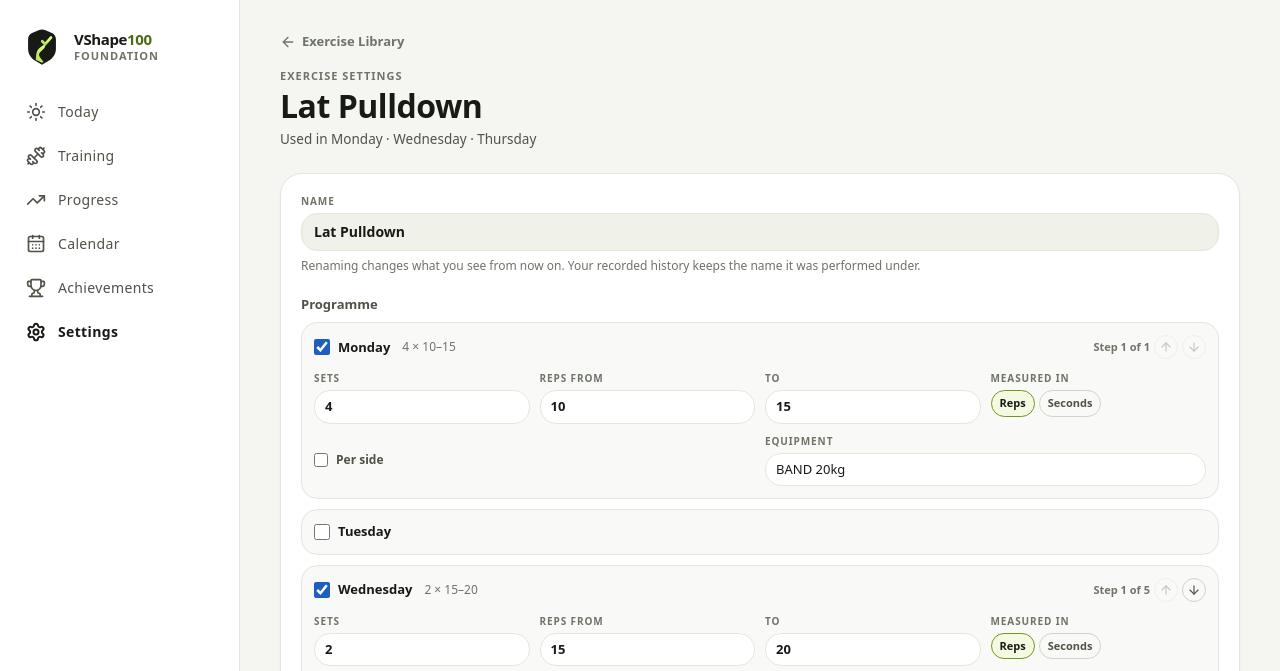
Test: unsaved changes and validity › disables Save and explains when a weekday would be emptied
Click the checkbox named "Train on Monday" at (322, 348), box top-left (314, 340), bottom-right (330, 356)
(page scrolled)
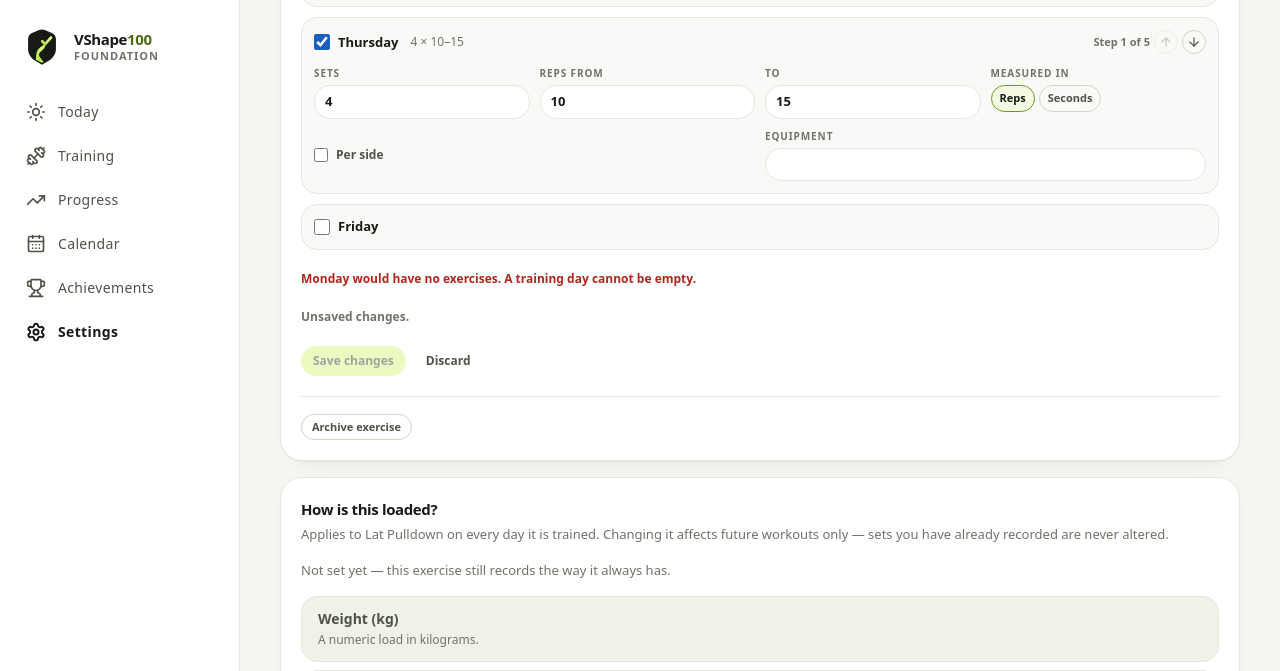
Expected: the button "Save changes" is disabled, top-left (301, 346), bottom-right (406, 376)
Expected: the message "Monday would have no exercises. A training day cannot be empty." is shown, top-left (301, 270), bottom-right (696, 287)
